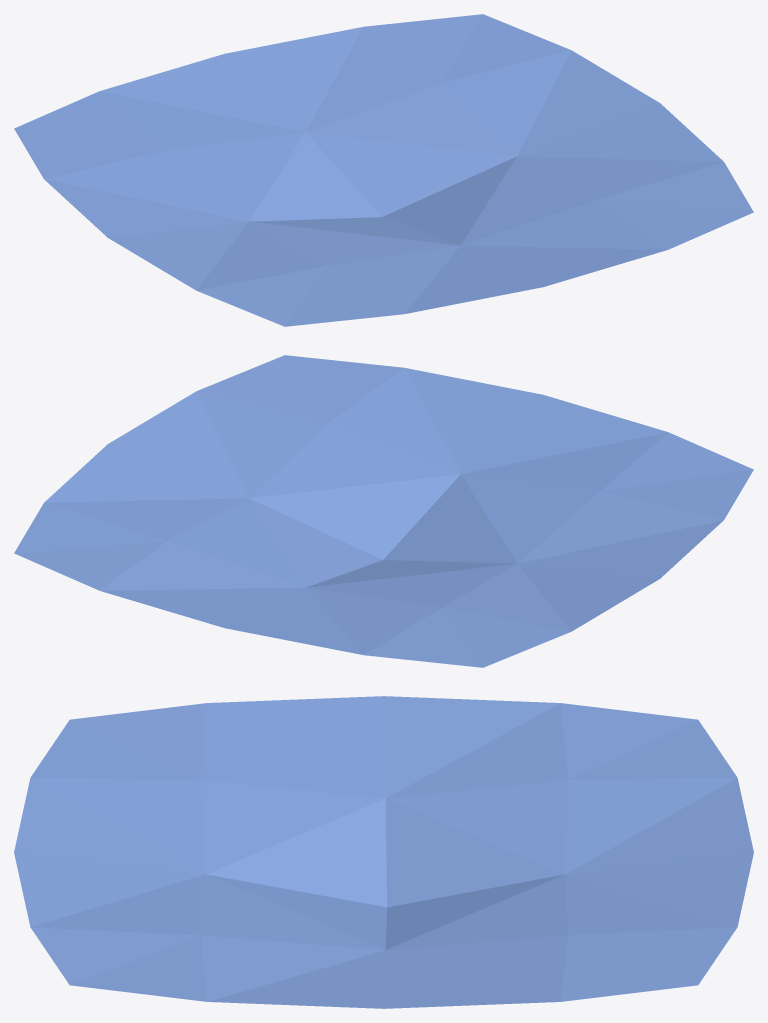
File: puddle_small.dae
3 renders of one model, top to bottom at view 1: azimuth 30°, elevation 25°; view 2: azimuth 150°, elevation 25°; view 3: azimuth 270°, elevation 25°, orthographic. The views are drawn at different scales.
Parts seen in each view (by area): view 1: Plane.005; view 2: Plane.005; view 3: Plane.005.
Part boxes in pixels (<box>): Plane.005: <box>14,14,753,326</box>; Plane.005: <box>14,355,753,667</box>; Plane.005: <box>14,696,753,1008</box>.
Bounding box in the file's own units: 1.57 × 1.57 × 0.1289.
